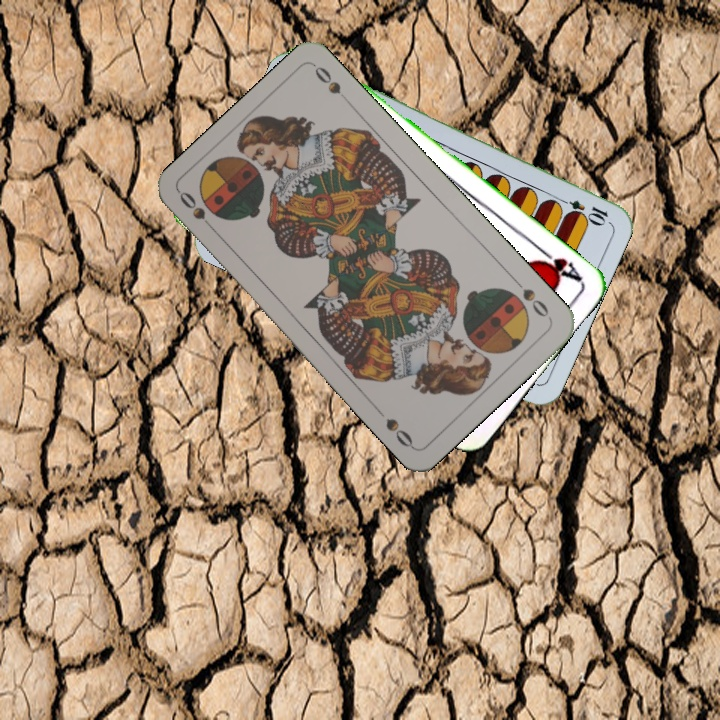E10: (553, 193, 611, 226)
HA: (531, 242, 585, 284)
SO: (175, 187, 220, 237), (509, 274, 553, 322)
